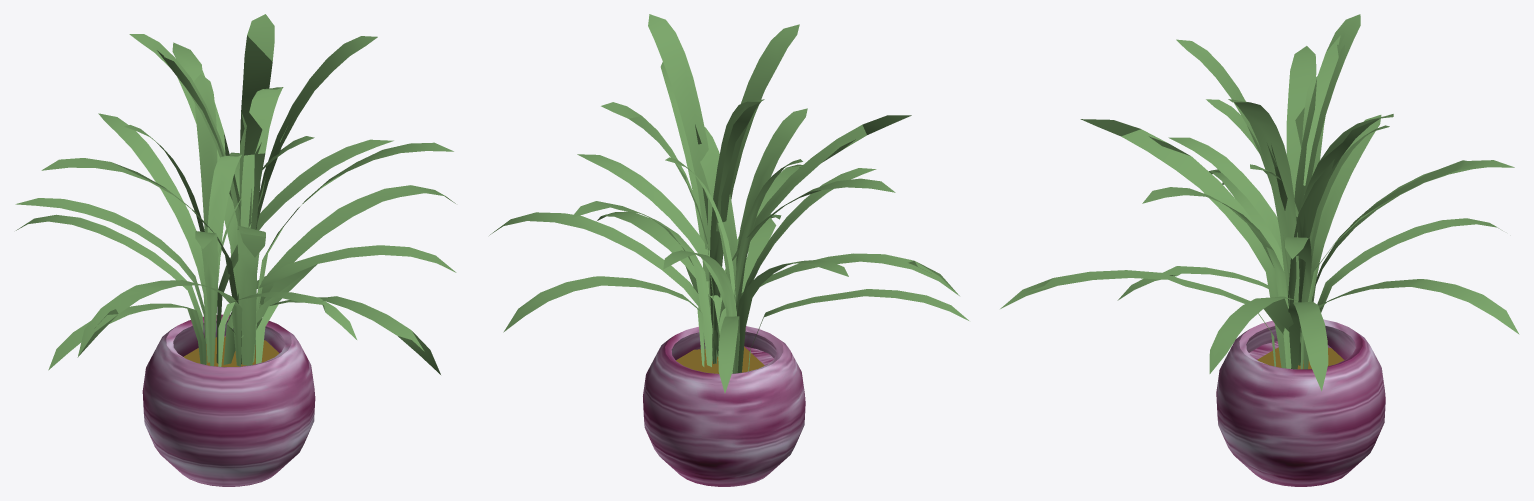
The model's file is bush_plant.glb.
The picture shows the model from 3 angles, left to right: view 1: azimuth 30°, elevation 25°; view 2: azimuth 150°, elevation 25°; view 3: azimuth 270°, elevation 25°; orthographic projection. The views are drawn at different scales.
Visible parts, largest first — view 1: Potplant2_1, Potplant2_2, Potplant2_3; view 2: Potplant2_1, Potplant2_2, Potplant2_3; view 3: Potplant2_1, Potplant2_2.
Boxes of the visible parts, x1,y1,x2,y2 form: Potplant2_1: (15, 14, 456, 374); Potplant2_2: (142, 314, 315, 486); Potplant2_3: (183, 336, 279, 367); Potplant2_1: (489, 14, 968, 393); Potplant2_2: (643, 326, 805, 486); Potplant2_3: (676, 346, 764, 373); Potplant2_1: (1000, 14, 1519, 391); Potplant2_2: (1216, 319, 1385, 486).
Size of the model in its own units: 0.9668 by 0.8535 by 0.9619.
Materials: 3 (1 with a texture image).
